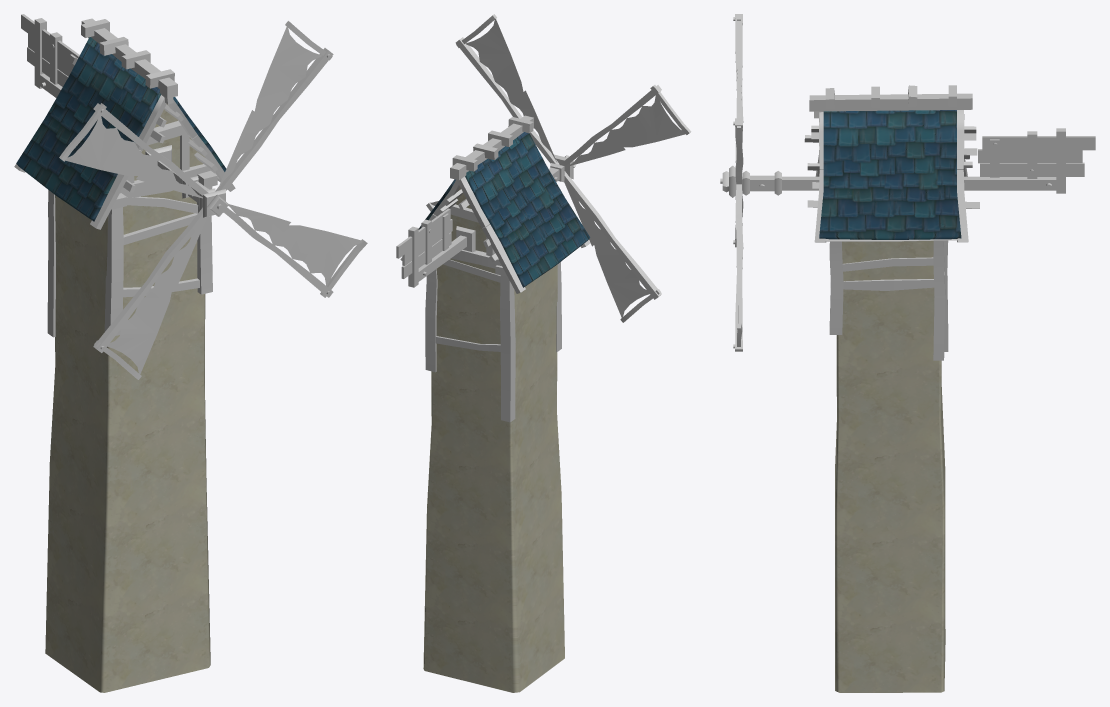
Rendered from A_TowerUnique_A.fbx.
3 views of the same model, side by side, from view 1: azimuth 30°, elevation 25°; view 2: azimuth 150°, elevation 25°; view 3: azimuth 270°, elevation 25° (orthographic). The views are drawn at different scales.
Visible parts, largest first — view 1: A_TowerUnique_A, A_Addon_Helix_A_MovingPart, A_TowerUnique_A_KitParts, A_TowerUnique_A_Tiles; view 2: A_TowerUnique_A, A_TowerUnique_A_KitParts, A_Addon_Helix_A_MovingPart, A_TowerUnique_A_Tiles; view 3: A_TowerUnique_A, A_TowerUnique_A_KitParts, A_TowerUnique_A_Tiles, A_Addon_Helix_A_MovingPart.
Boxes of the visible parts, x1,y1,x2,y2 form: A_TowerUnique_A: (45, 104, 210, 692); A_Addon_Helix_A_MovingPart: (59, 21, 367, 379); A_TowerUnique_A_KitParts: (14, 14, 235, 337); A_TowerUnique_A_Tiles: (16, 37, 226, 221); A_TowerUnique_A: (423, 187, 564, 692); A_TowerUnique_A_KitParts: (396, 115, 590, 422); A_Addon_Helix_A_MovingPart: (426, 14, 691, 322); A_TowerUnique_A_Tiles: (418, 132, 590, 287); A_TowerUnique_A: (835, 240, 945, 692); A_TowerUnique_A_KitParts: (720, 85, 1095, 360); A_TowerUnique_A_Tiles: (819, 110, 961, 239); A_Addon_Helix_A_MovingPart: (733, 14, 743, 351).
Bounding box in the file's own units: 701 × 1478 × 789.
